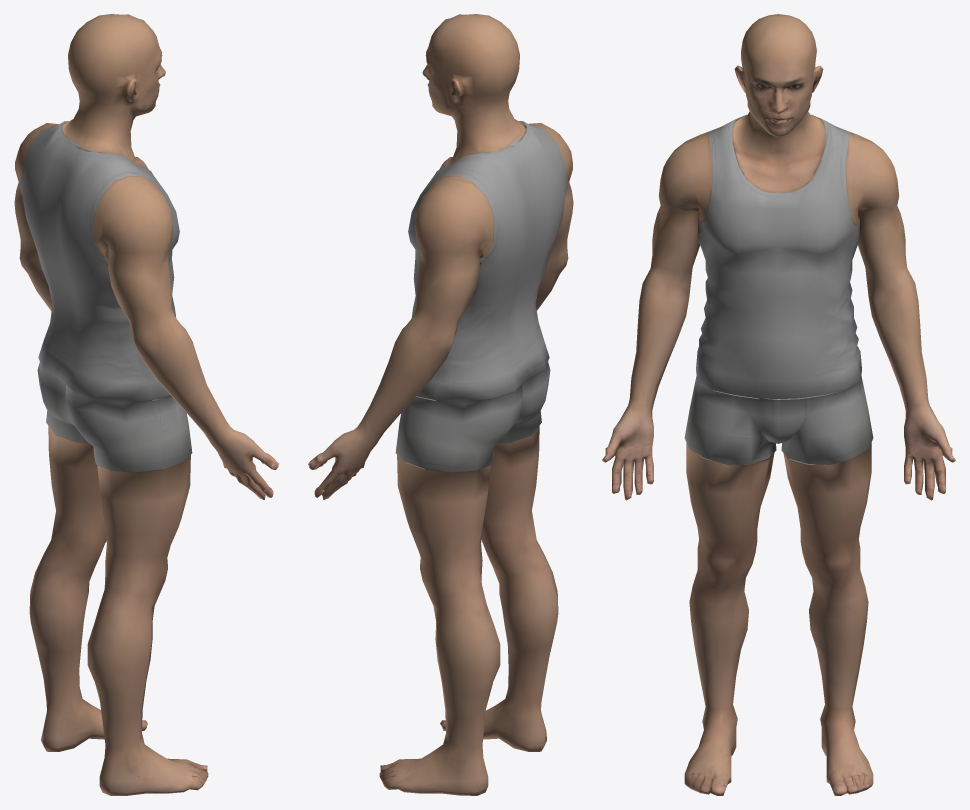
3 views of the same model, side by side, from view 1: azimuth 30°, elevation 25°; view 2: azimuth 150°, elevation 25°; view 3: azimuth 270°, elevation 25° (orthographic).
Parts seen in each view (by area): view 1: back, right_leg, right_hand, left_leg, head, heap, left_hand, men_reproducible_part, chest, neck; view 2: back, left_leg, left_hand, right_leg, head, heap, right_hand, men_reproducible_part, chest; view 3: chest, right_leg, left_leg, stomach, right_hand, left_hand, men_reproducible_part, head, neck, back.
Part boxes in pixels (<box>): back: <box>19,101,152,402</box>; right_leg: <box>87,455,208,795</box>; right_hand: <box>93,176,278,499</box>; left_leg: <box>29,426,147,751</box>; head: <box>68,14,165,119</box>; heap: <box>37,362,163,472</box>; left_hand: <box>14,123,58,311</box>; men_reproducible_part: <box>151,396,192,468</box>; chest: <box>118,143,179,286</box>; neck: <box>108,115,133,146</box>; back: <box>435,101,568,402</box>; left_leg: <box>379,455,500,795</box>; left_hand: <box>308,176,494,499</box>; right_leg: <box>440,426,558,751</box>; head: <box>422,14,519,119</box>; heap: <box>424,362,550,472</box>; right_hand: <box>524,123,573,310</box>; men_reproducible_part: <box>395,396,436,468</box>; chest: <box>408,122,525,287</box>; chest: <box>697,125,859,296</box>; right_leg: <box>684,442,774,795</box>; left_leg: <box>783,442,873,795</box>; stomach: <box>696,278,861,398</box>; right_hand: <box>602,131,711,500</box>; left_hand: <box>846,134,955,500</box>; men_reproducible_part: <box>684,376,873,464</box>; head: <box>734,14,823,137</box>; neck: <box>747,111,810,152</box>; back: <box>708,111,857,140</box>.
Bounding box in the file's own units: 0.2012 × 0.998 × 0.4277.
Materials: 1 (1 with a texture image).
